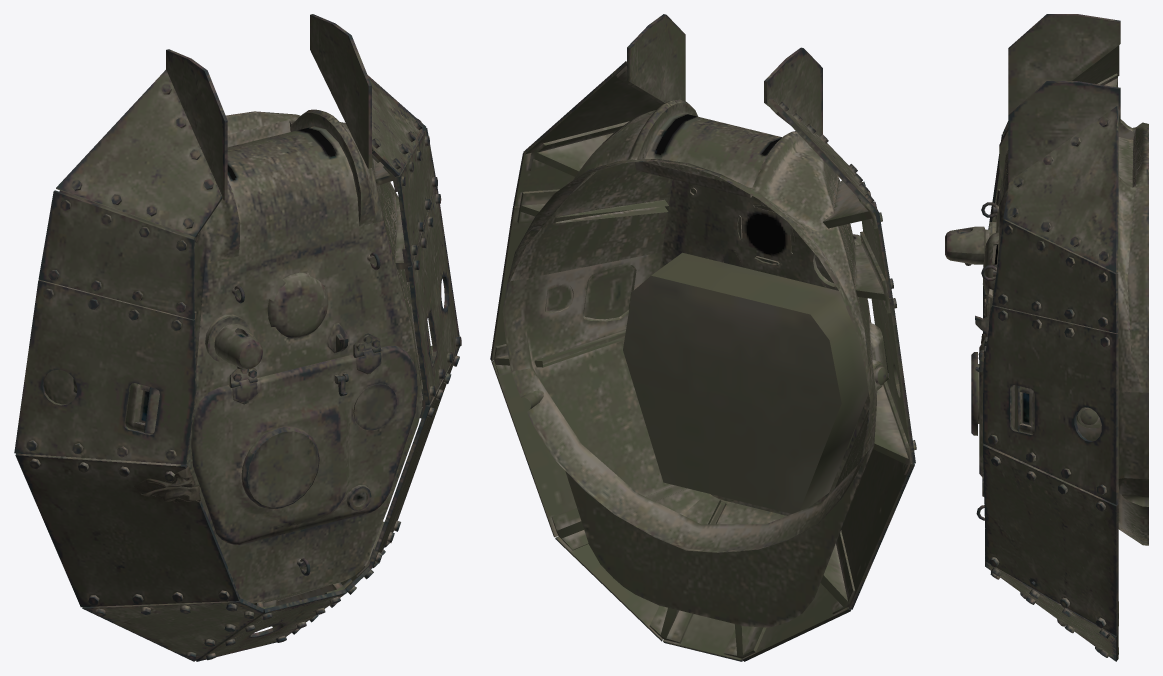
Rendered from Turret_01.glb.
3 renders of one model, left to right at view 1: azimuth 30°, elevation 25°; view 2: azimuth 150°, elevation 25°; view 3: azimuth 270°, elevation 25°, orthographic. The views are drawn at different scales.
Parts seen in each view (by area): view 1: set_0_group_0; view 2: set_0_group_0; view 3: set_0_group_0.
Boxes of the visible parts, x1,y1,x2,y2 form: set_0_group_0: (14,14,461,661); set_0_group_0: (490,14,916,661); set_0_group_0: (945,14,1148,661).
Size of the model in its own units: 2.04 by 2.73 by 0.8455.
Materials: 1 (1 with a texture image).
